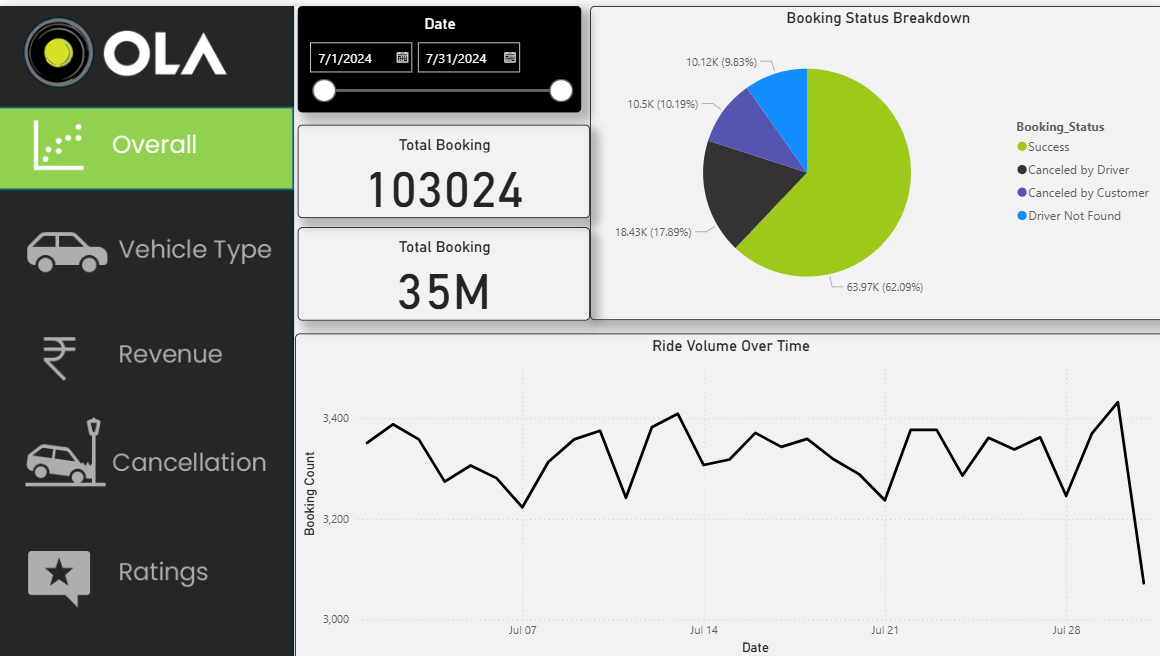

Layout of this report page (visuals, bound fields, positions):
{"tool":"powerbi","page":{"name":"Overall","canvas":[1280,720],"ordinal":0},"visuals":[{"type":"actionButton","box":[0,218.9,324.2,95.8],"z":0},{"type":"actionButton","box":[0,220,324.2,95.8],"z":1000},{"type":"actionButton","box":[0,336.8,324.2,95.8],"z":2000},{"type":"actionButton","box":[0,447.4,324.2,95.8],"z":3000},{"type":"actionButton","box":[0,578.9,324.2,95.8],"z":4000},{"type":"lineChart","title":"Ride Volume Over Time","fields":{"Y":["CountNonNull(Bookings_Cleaned.Booking_ID)"],"Category":["Bookings_Cleaned.Date"]},"box":[324.5,359.5,955.5,360.7],"z":5000},{"type":"pieChart","title":"Booking Status Breakdown","fields":{"Category":["Bookings_Cleaned.Booking_Status"],"Y":["CountNonNull(Bookings_Cleaned.Booking_Status)"]},"box":[649.1,0,631,345],"z":6000},{"type":"slicer","title":"Date","fields":{"Values":["Bookings_Cleaned.Date"]},"box":[328.2,0,311.3,117],"z":7000},{"type":"card","title":"Total Booking","fields":{"Values":["CountNonNull(Bookings_Cleaned.Booking_ID)"]},"box":[328.2,130.3,320.9,102.5],"z":8000},{"type":"card","title":"Total Booking","fields":{"Values":["Sum(Bookings_Cleaned.Booking_Value)"]},"box":[328.2,242.5,320.9,102.5],"z":9000}]}

Visuals, with their boxes in screenshot pixels (x1, y1, x2, y2), scaled from the page's 1280x720 canvas onto the 1160x656 screenshot:
actionButton: (0,199,294,287)
actionButton: (0,200,294,288)
actionButton: (0,307,294,394)
actionButton: (0,408,294,495)
actionButton: (0,527,294,615)
"Ride Volume Over Time" lineChart: (294,328,1159,655)
"Booking Status Breakdown" pieChart: (588,0,1159,314)
"Date" slicer: (297,0,580,107)
"Total Booking" card: (297,119,588,212)
"Total Booking" card: (297,221,588,314)
